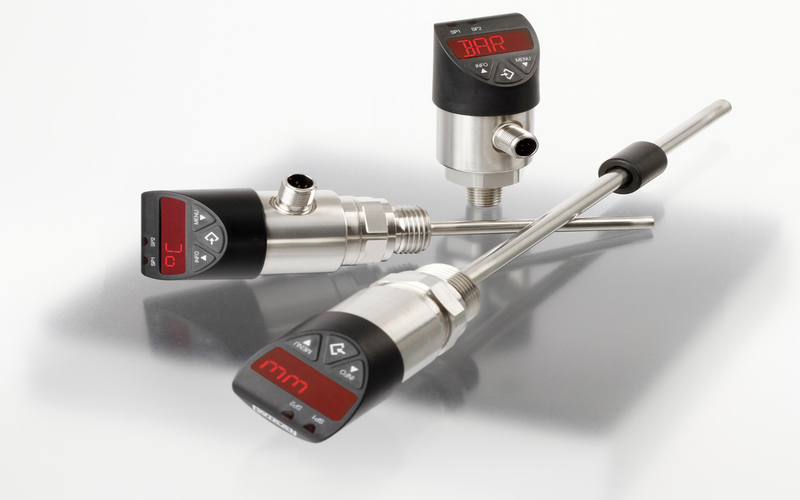Switches: (216, 221, 521, 461), (125, 150, 458, 281), (425, 8, 551, 212)
